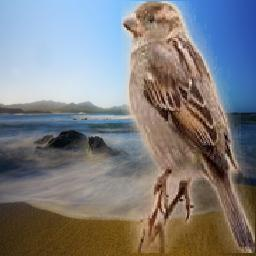Sparrow: (121, 1, 255, 253)
